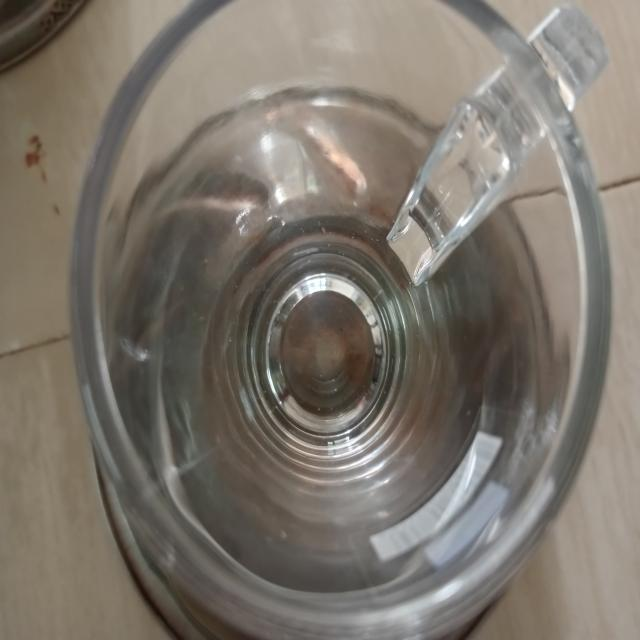glass-VX4N: (70, 3, 620, 640)
